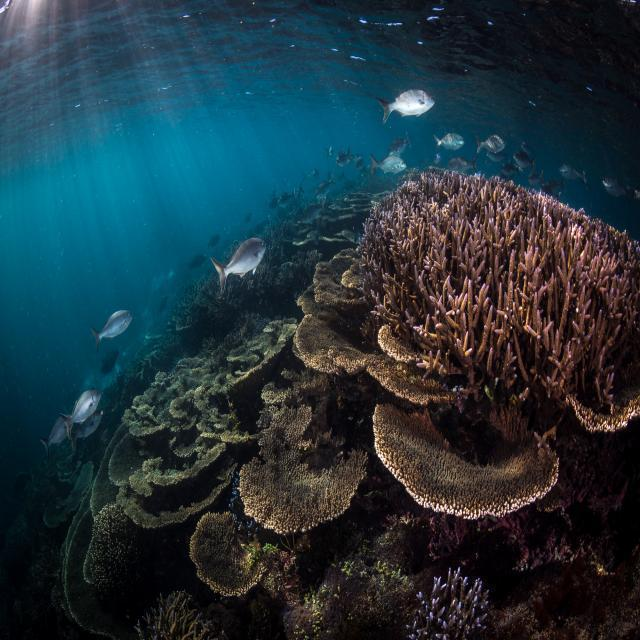Healthy Coral: (370, 174, 640, 431), (123, 304, 371, 543), (371, 407, 586, 513), (193, 511, 290, 610), (399, 570, 501, 633)
